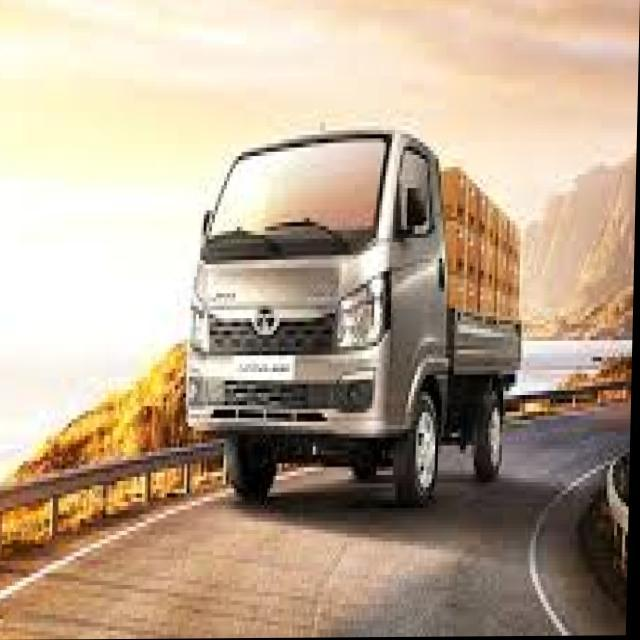uncovered: (189, 128, 525, 507)
